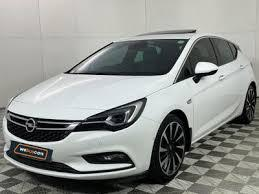opel: (26, 116, 38, 133)
